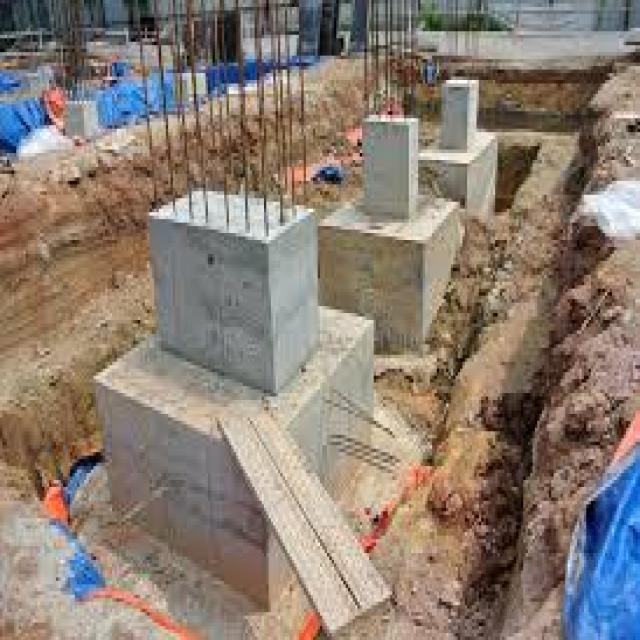Foundation: (49, 11, 429, 640), (295, 7, 555, 370)
